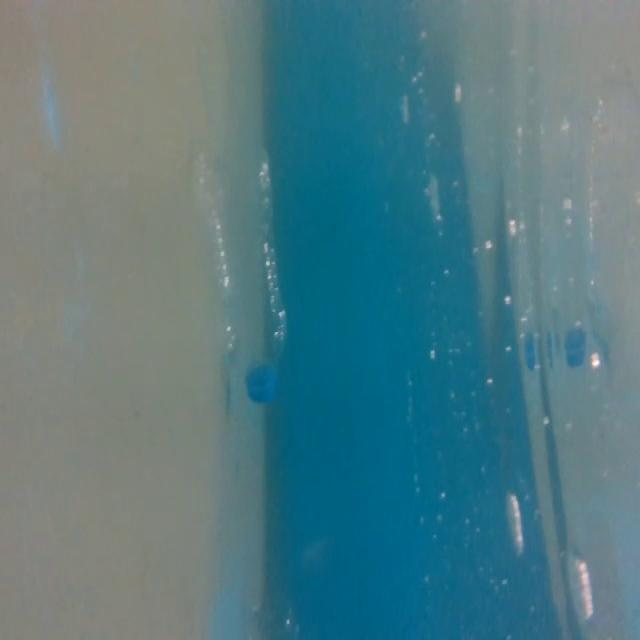plastic bottle: (188, 123, 302, 408)
